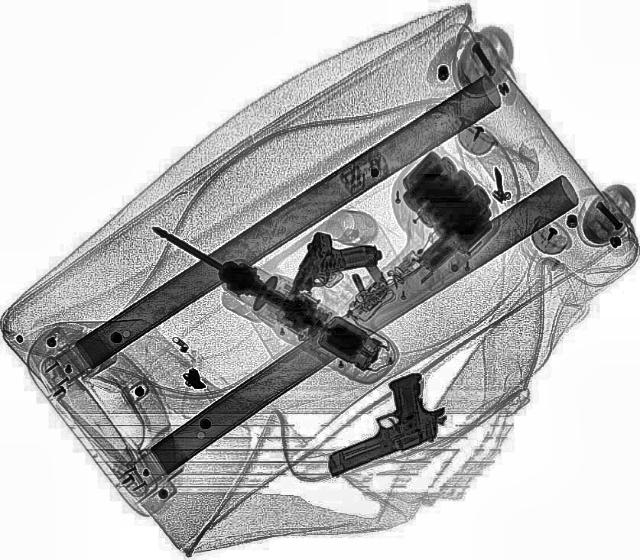Gun: (292, 370, 456, 480), (282, 228, 382, 316)
